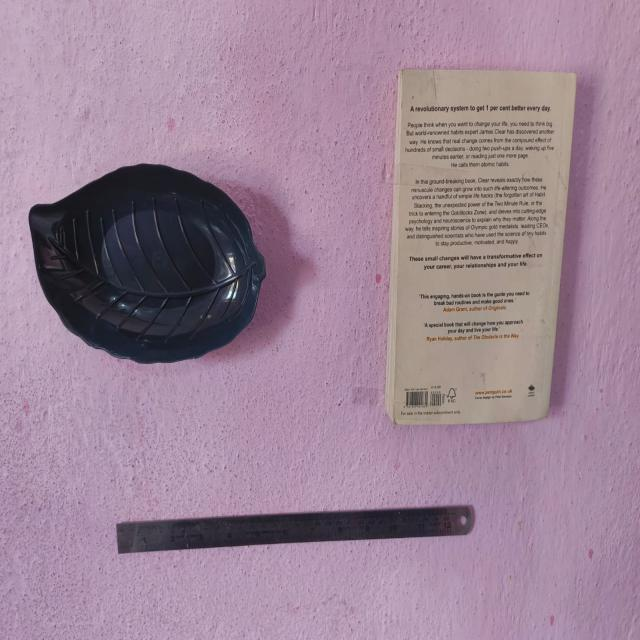Book: (384, 60, 580, 432)
plate: (26, 163, 268, 366)
scale: (113, 499, 480, 560)
